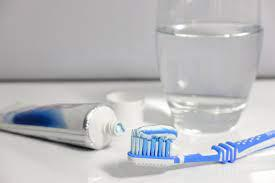toothpaste: (0, 89, 131, 153)
